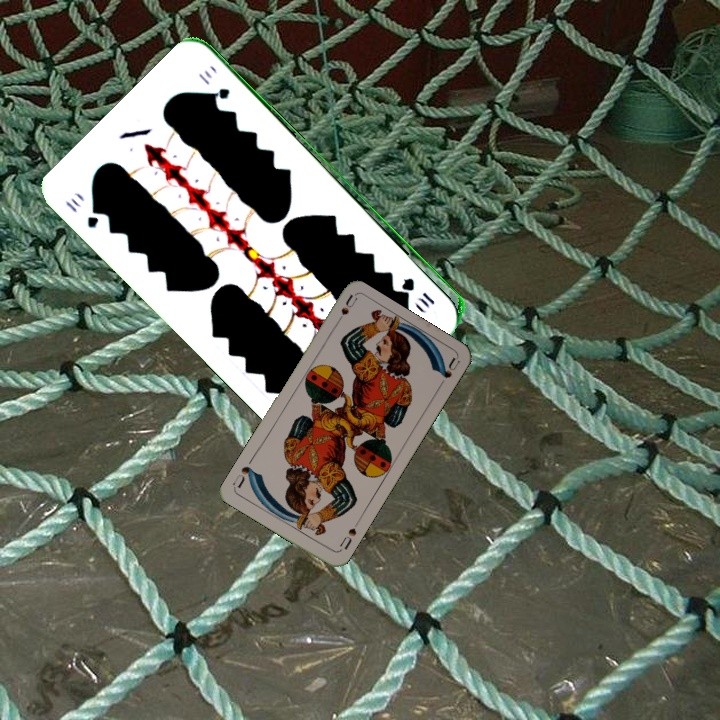G10: (61, 195, 105, 231), (399, 273, 438, 307)
SU: (330, 292, 359, 330), (335, 517, 362, 554)
